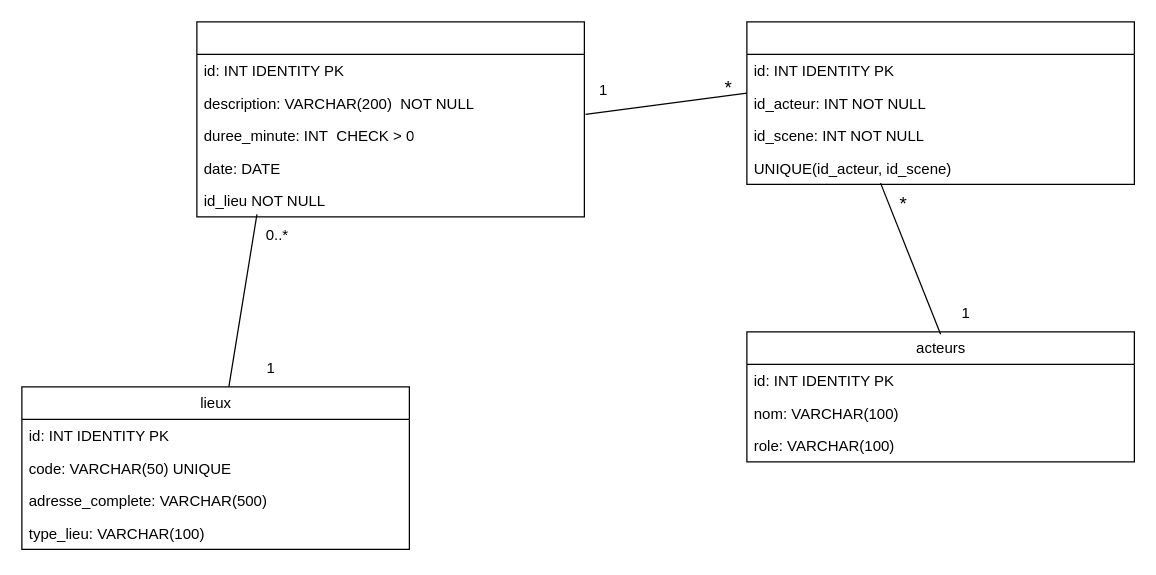
The diagram is 1156 pixels wide and 575 high, and some of its shapes have lost their labels. Each missing label, with the box of its shape:
acteurs_scène: (746, 21, 1134, 184)
scènes: (196, 21, 584, 217)
